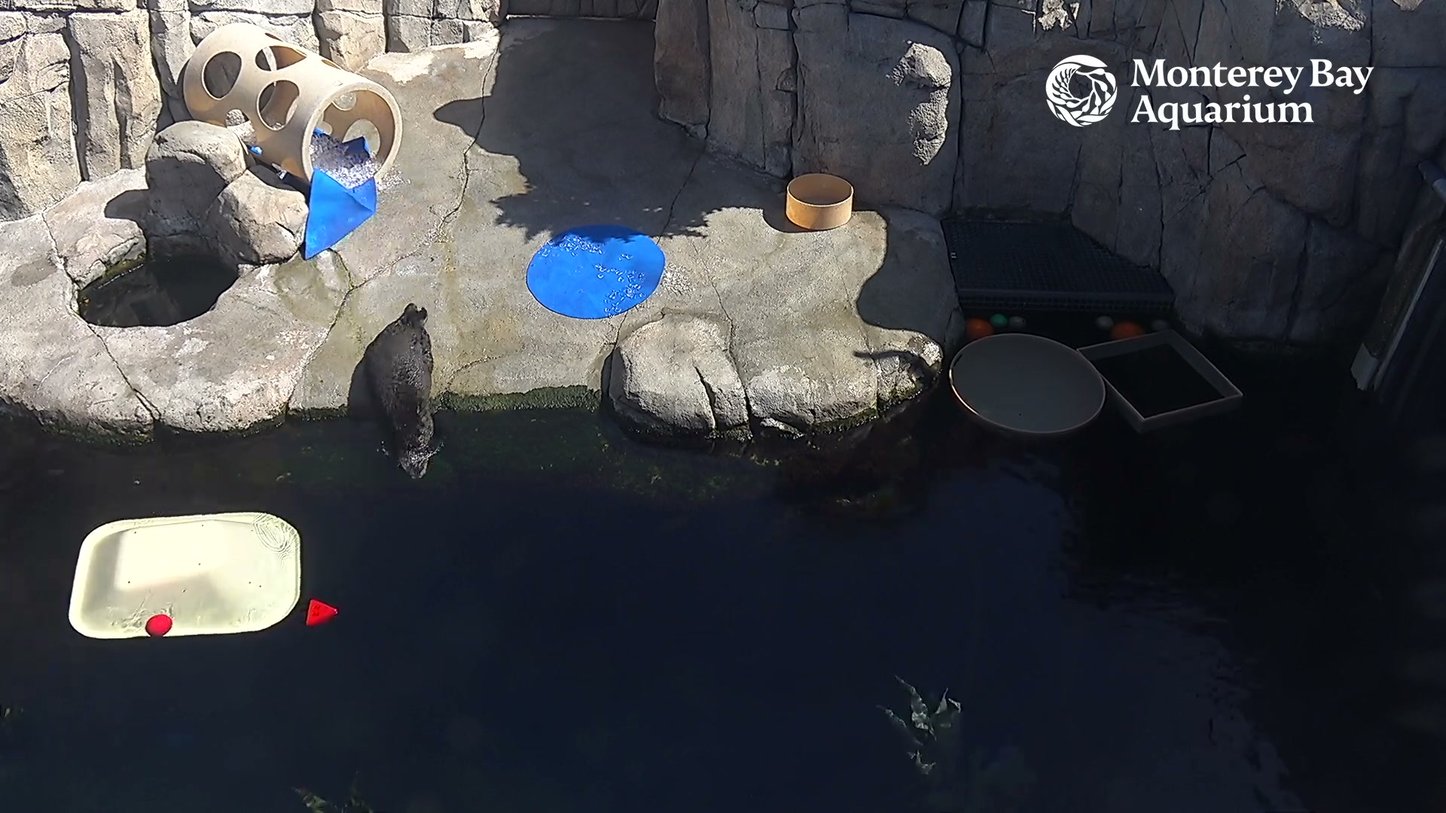Southern Sea Otter: (350, 300, 465, 497)
